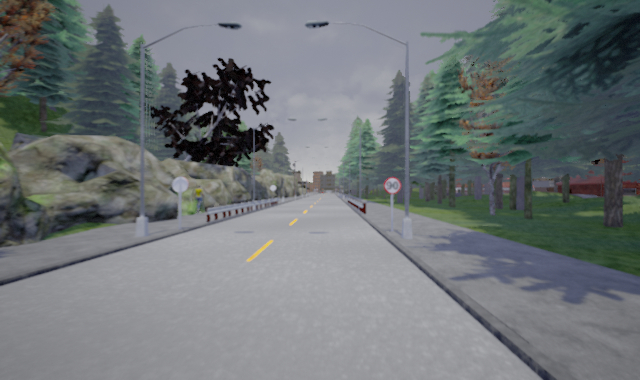pedestrian: (192, 183, 206, 211)
traffic_sign: (382, 176, 402, 194)
